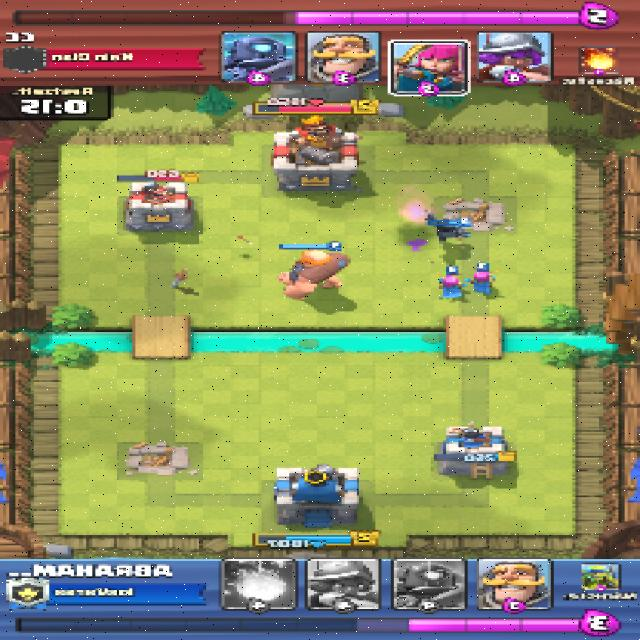Player-Archer: (469, 269, 500, 296), (438, 275, 468, 298)
Player-Giant: (280, 248, 353, 298)
Player-MiniPEKKA: (428, 216, 474, 241)
